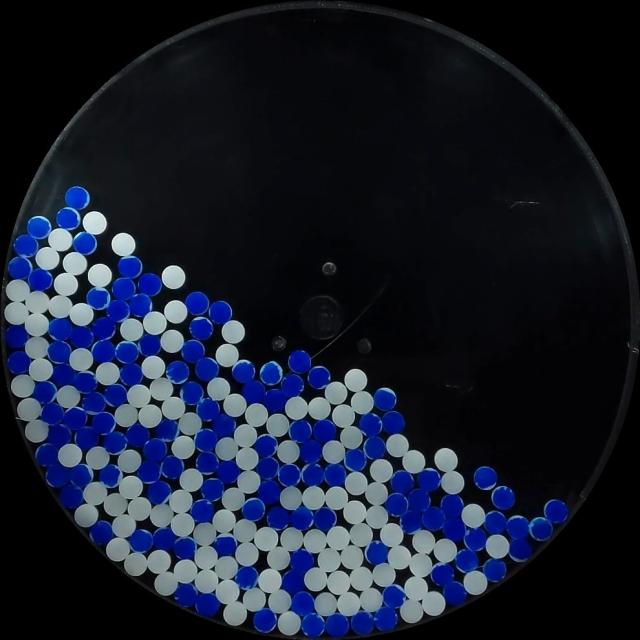pmmma-azul: (280, 568, 306, 594), (372, 606, 398, 631), (291, 590, 316, 616), (442, 580, 468, 605), (462, 526, 487, 552), (195, 592, 220, 618), (442, 515, 467, 541), (253, 608, 278, 633), (46, 423, 71, 448), (59, 484, 84, 509), (119, 362, 144, 387), (543, 499, 568, 524), (507, 536, 532, 561), (264, 388, 289, 413), (528, 516, 553, 541), (289, 548, 314, 573), (405, 487, 430, 512), (89, 519, 113, 545), (40, 401, 66, 425), (128, 528, 154, 552), (258, 479, 282, 505), (103, 430, 128, 454), (91, 410, 116, 434), (181, 339, 206, 363), (473, 466, 498, 490), (299, 438, 323, 463), (125, 422, 149, 447), (47, 339, 71, 364), (454, 548, 478, 573), (5, 324, 29, 349), (194, 356, 218, 381), (48, 317, 73, 341), (91, 317, 116, 341), (7, 350, 31, 375), (231, 359, 255, 384), (241, 379, 265, 404), (505, 516, 529, 541), (372, 387, 397, 411), (174, 582, 198, 607), (483, 510, 508, 534), (301, 612, 325, 637), (13, 234, 39, 257), (117, 256, 143, 279), (36, 443, 58, 470), (172, 536, 196, 560), (190, 498, 214, 522), (104, 383, 128, 407), (143, 438, 167, 462), (200, 478, 224, 502), (216, 459, 240, 483), (312, 418, 336, 442), (152, 527, 176, 551), (138, 272, 162, 296), (358, 412, 382, 436), (256, 456, 280, 480), (194, 428, 218, 452), (280, 373, 304, 397), (147, 480, 171, 504), (350, 610, 374, 634), (430, 562, 454, 586), (266, 505, 290, 529), (381, 410, 405, 434), (440, 493, 464, 517), (128, 293, 152, 317), (290, 506, 314, 530), (364, 541, 388, 565), (32, 380, 56, 404), (8, 256, 32, 280), (491, 485, 515, 509), (421, 506, 445, 530), (235, 565, 259, 589), (46, 463, 70, 487), (186, 291, 210, 315), (73, 231, 97, 255), (166, 360, 190, 384), (399, 509, 423, 533), (259, 360, 283, 384), (91, 340, 116, 363), (82, 391, 107, 414), (112, 277, 137, 300), (28, 268, 53, 291), (257, 479, 280, 504), (65, 186, 90, 209), (56, 207, 81, 230), (160, 455, 183, 479), (242, 497, 265, 521), (254, 434, 277, 458), (313, 506, 336, 530), (180, 381, 203, 405), (483, 558, 506, 582), (209, 300, 233, 323), (86, 287, 110, 310), (195, 451, 219, 474), (385, 492, 408, 516), (197, 398, 220, 422), (75, 426, 98, 450), (99, 464, 122, 488), (115, 341, 139, 364), (213, 534, 237, 557), (155, 418, 179, 441), (106, 299, 130, 322), (27, 216, 51, 239), (382, 584, 406, 607), (74, 371, 98, 394), (391, 470, 414, 494), (289, 419, 312, 442), (344, 448, 367, 471), (139, 333, 162, 356), (288, 350, 311, 373), (325, 613, 348, 636), (382, 585, 405, 608), (301, 463, 324, 486), (307, 366, 331, 388), (69, 326, 93, 348), (70, 463, 92, 487), (136, 462, 161, 483), (324, 463, 346, 486), (364, 436, 386, 459), (190, 317, 213, 339), (214, 415, 237, 437), (54, 362, 74, 387), (278, 464, 300, 486), (418, 468, 440, 490), (64, 407, 87, 428)
